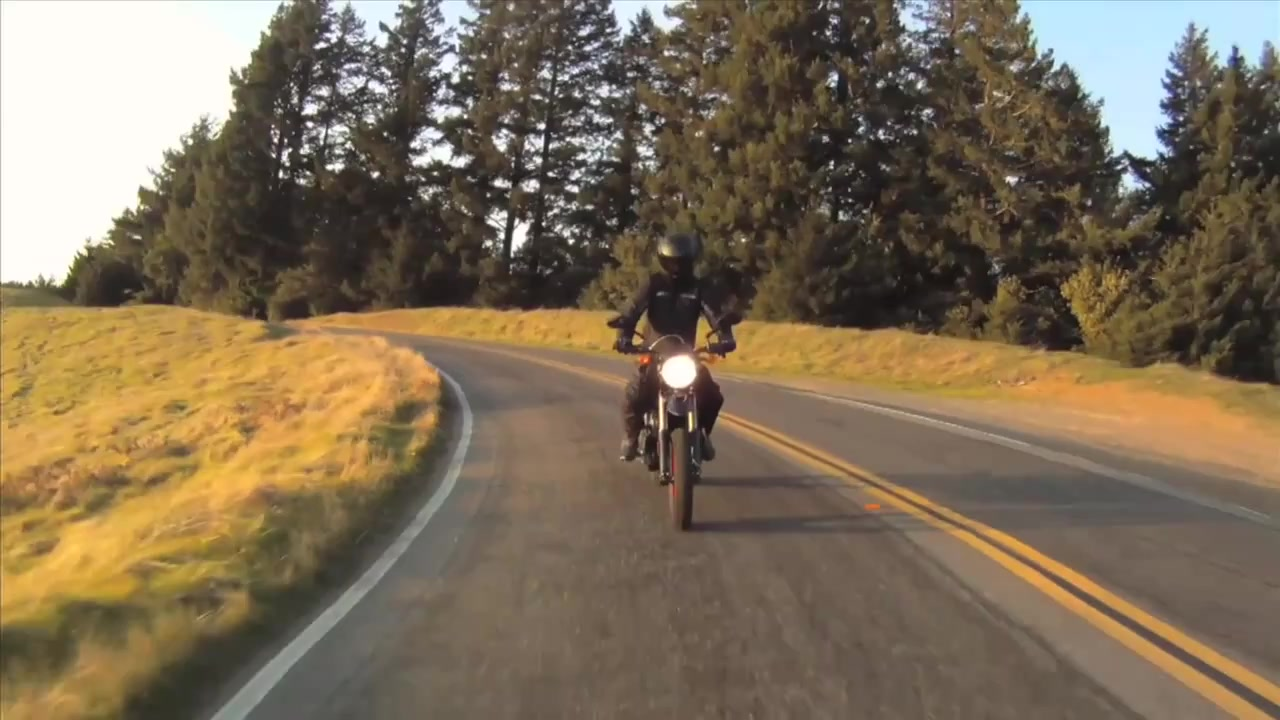motorbike: (613, 310, 748, 536)
